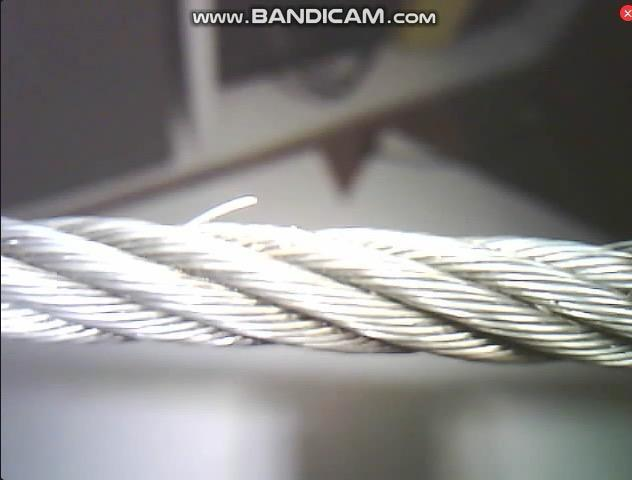break: (180, 176, 266, 236)
